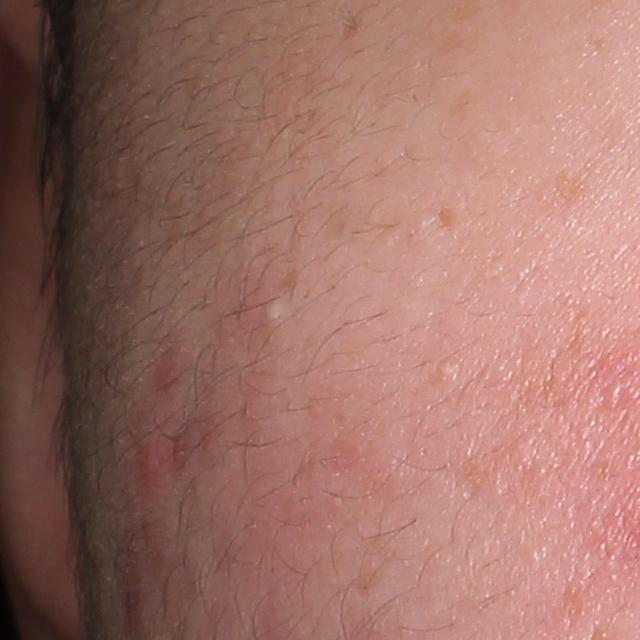comedo: (257, 293, 290, 327), (433, 354, 466, 380)
melasma: (551, 165, 596, 207)
